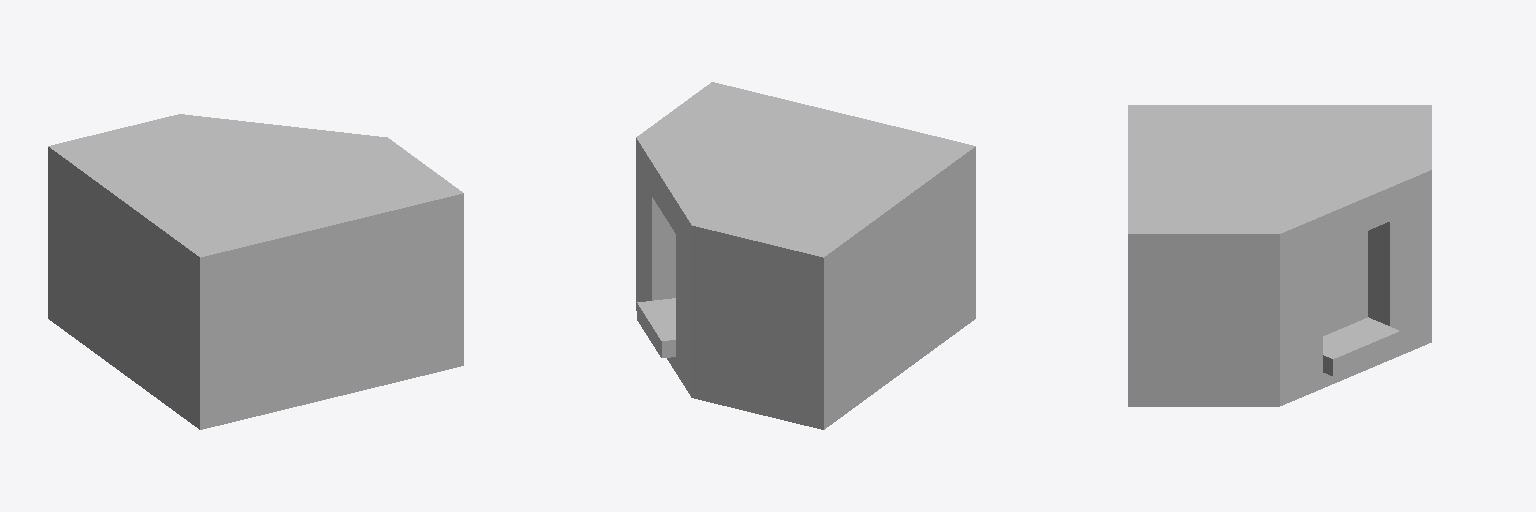
The model's file is building_038.obj.
3 renders of one model, left to right at view 1: azimuth 30°, elevation 25°; view 2: azimuth 150°, elevation 25°; view 3: azimuth 270°, elevation 25°, orthographic.
Visible parts, largest first — view 1: building_038; view 2: building_038; view 3: building_038.
Part boxes in pixels (bbox=[...]): building_038: bbox=[48, 114, 463, 429]; building_038: bbox=[636, 82, 975, 429]; building_038: bbox=[1128, 105, 1431, 406].
Size of the model in its own units: 1 by 0.625 by 1.